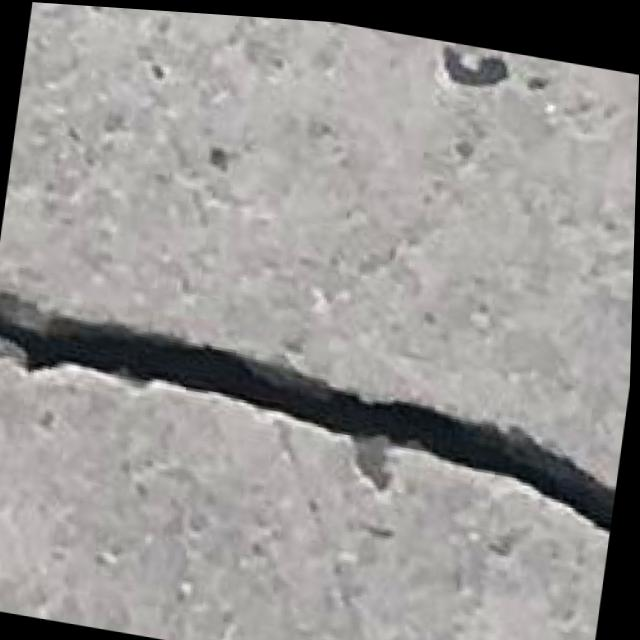Crack: (0, 274, 633, 553)
